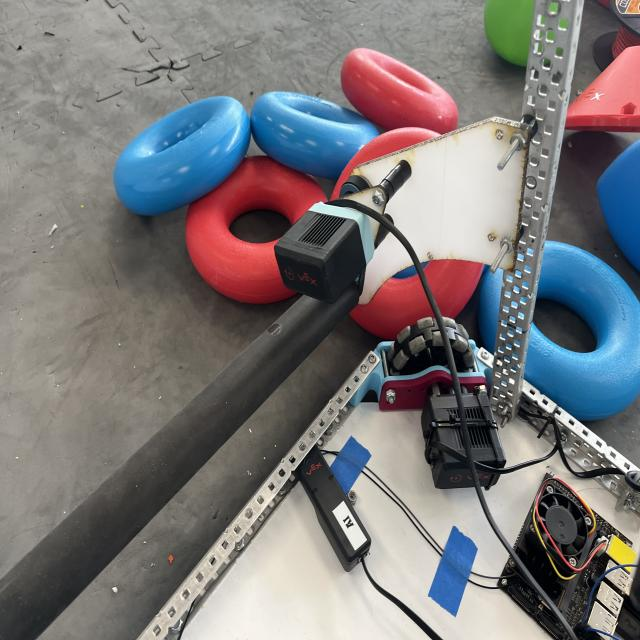Blue-Ring: (525, 242, 640, 420), (114, 97, 251, 215), (250, 92, 379, 180)
Red-Ring: (325, 129, 483, 343), (185, 157, 326, 303), (341, 48, 458, 133)
